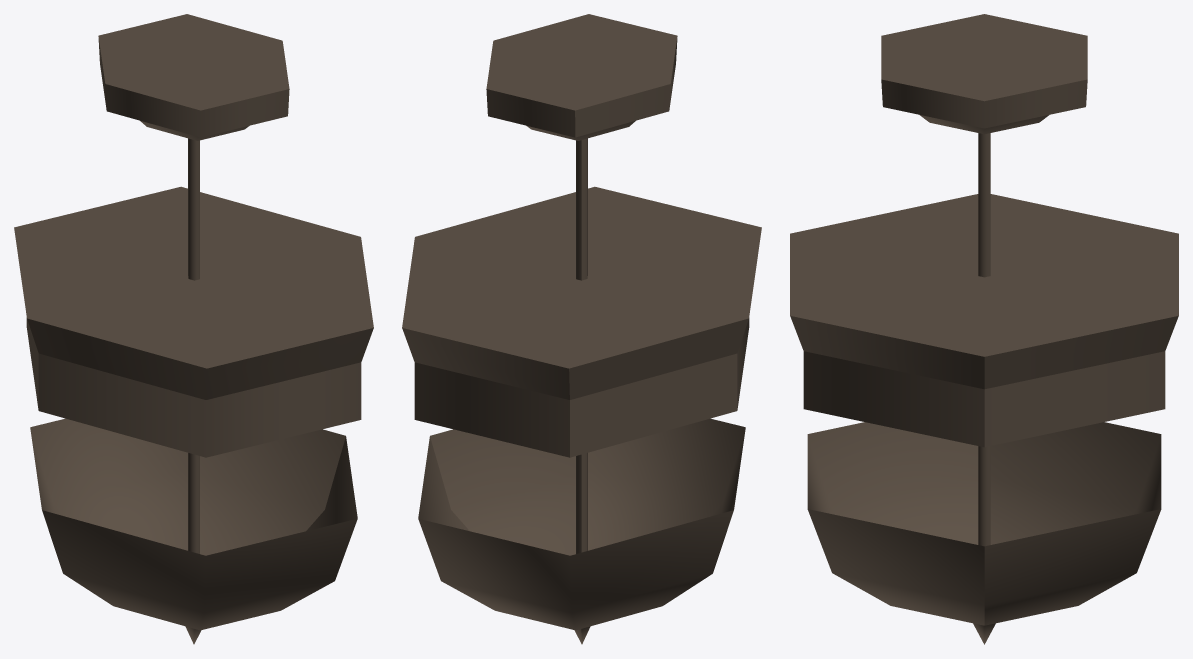
The model's file is Ceilling_Fan_002.fbx.
3 views of the same model, side by side, from view 1: azimuth 30°, elevation 25°; view 2: azimuth 150°, elevation 25°; view 3: azimuth 270°, elevation 25° (orthographic).
Parts seen in each view (by area): view 1: Building.002; view 2: Building.002; view 3: Building.002.
Part boxes in pixels (x1=…): Building.002: x1=14, y1=14, x2=373, y2=644; Building.002: x1=402, y1=14, x2=761, y2=644; Building.002: x1=790, y1=14, x2=1178, y2=644.
Bounding box in the file's own units: 0.6 × 1 × 0.6.
